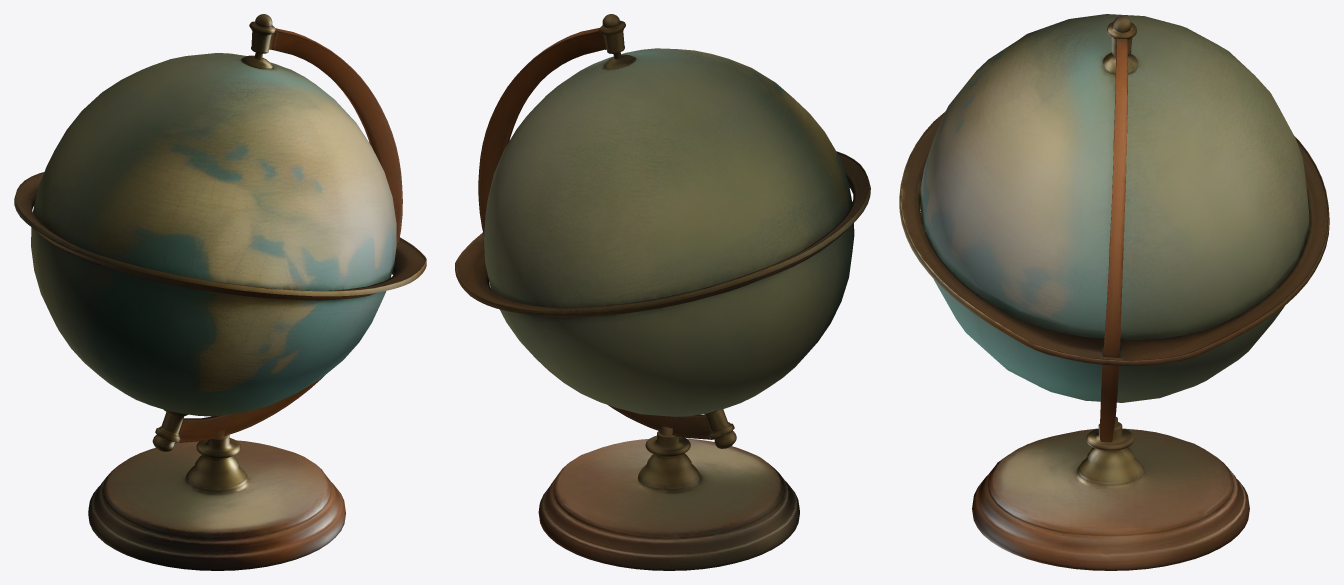
The model's file is desk-globe.glb.
The picture shows the model from 3 angles, left to right: view 1: azimuth 30°, elevation 25°; view 2: azimuth 150°, elevation 25°; view 3: azimuth 270°, elevation 25°; orthographic projection. The views are drawn at different scales.
Parts seen in each view (by area): view 1: a43443bf_3d8c_4090_a438_4afef24d9289; view 2: a43443bf_3d8c_4090_a438_4afef24d9289; view 3: a43443bf_3d8c_4090_a438_4afef24d9289.
Boxes of the visible parts, x1,y1,x2,y2 form: a43443bf_3d8c_4090_a438_4afef24d9289: (14,14,426,570); a43443bf_3d8c_4090_a438_4afef24d9289: (455,14,870,570); a43443bf_3d8c_4090_a438_4afef24d9289: (899,14,1329,570).
Bounding box in the file's own units: 0.7749 × 0.9995 × 0.7456.
1 material, 1 textured.
